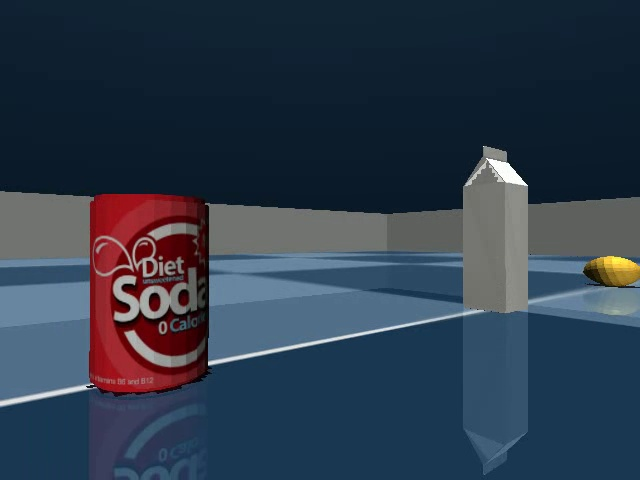can: (82, 183, 217, 404)
lemon: (577, 251, 640, 291)
milk: (452, 138, 539, 325)
